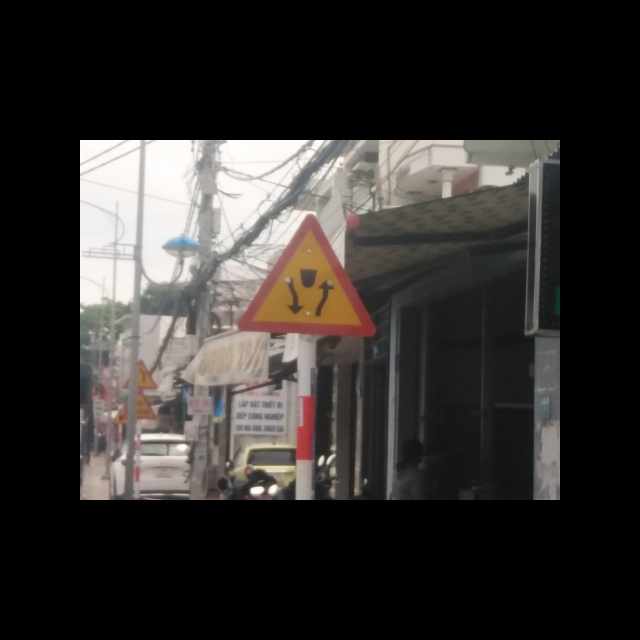Đường đôi: (236, 214, 379, 340)
